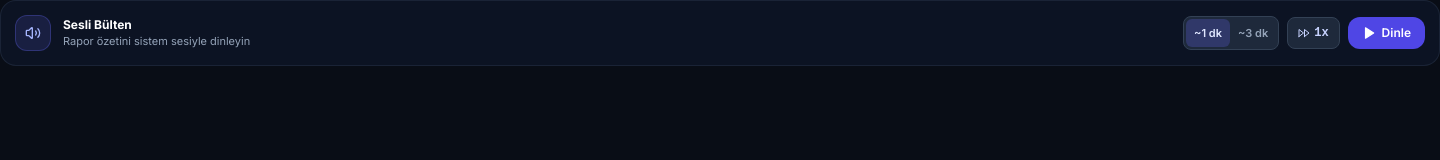
Scenario: AudioMemoPlayer › shows why reading failed
The width and height of the screenshot is (1440, 160).
Click the button "Dinle" at (1386, 33), box left=1348, top=17, right=1425, bottom=49
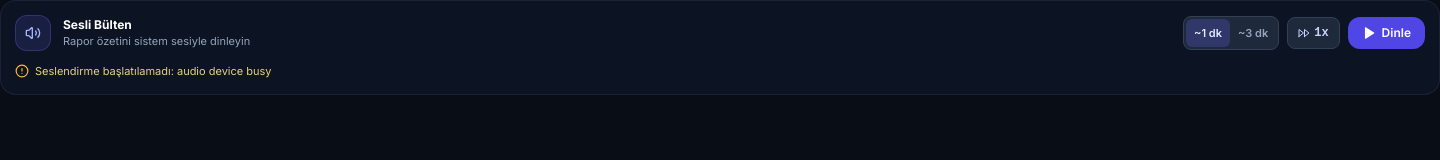
Result: the message reads "Seslendirme başlatılamadı: audio device busy" at left=35, top=64, right=272, bottom=78
